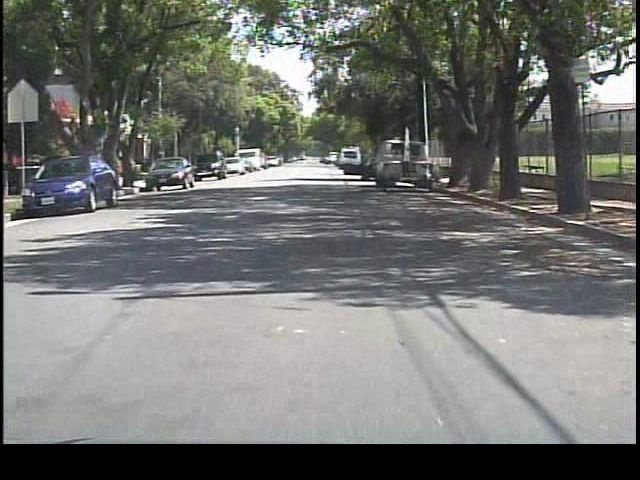person: (360, 155, 375, 182)
